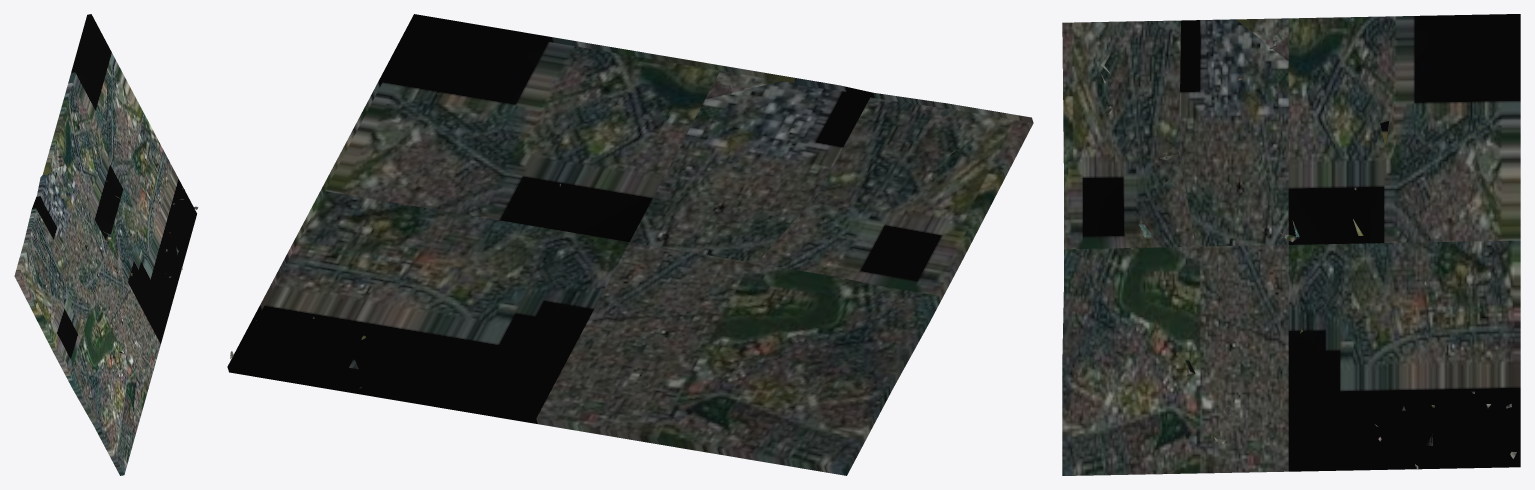
3 renders of one model, left to right at view 1: azimuth 30°, elevation 25°; view 2: azimuth 150°, elevation 25°; view 3: azimuth 270°, elevation 25°, orthographic. The views are drawn at different scales.
Parts seen in each view (by area): view 1: node_3043627270436_mesh0; view 2: node_3043627270436_mesh0; view 3: node_3043627270436_mesh0.
Boxes of the visible parts, <box> form: node_3043627270436_mesh0: <box>14,14,198,475</box>; node_3043627270436_mesh0: <box>227,14,1033,475</box>; node_3043627270436_mesh0: <box>1062,14,1520,475</box>.
Size of the model in its own units: 4655 by 4667 by 3536.
1 material, 1 textured.
